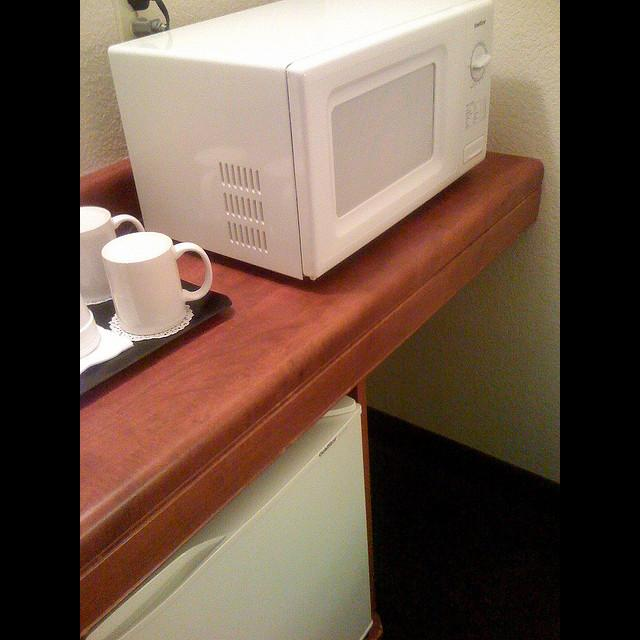Microwave: (109, 1, 493, 283)
